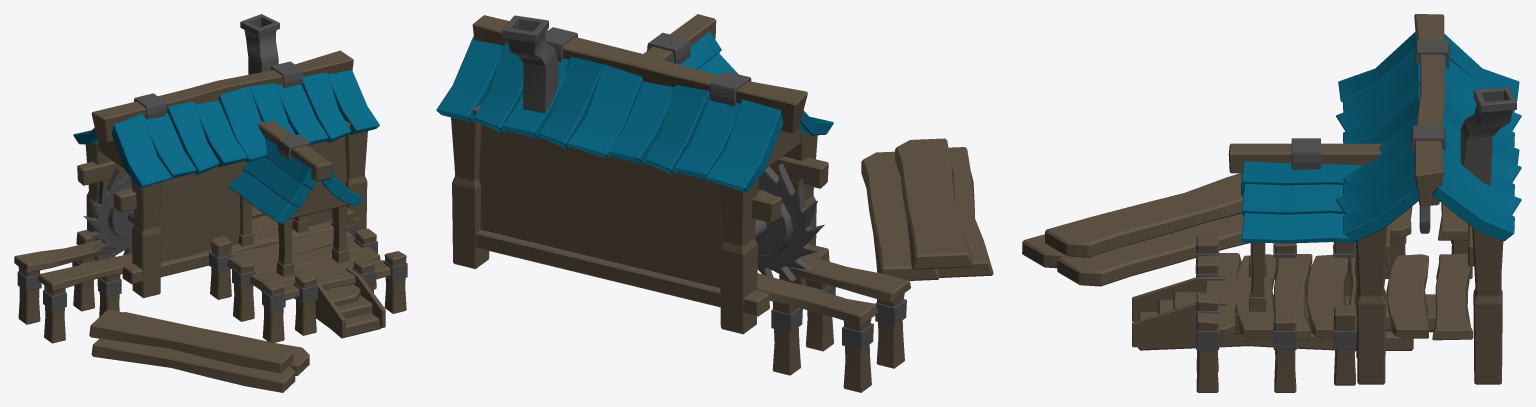
Rendered from SM_sawmill_v1.fbx.
The picture shows the model from 3 angles, left to right: view 1: azimuth 30°, elevation 25°; view 2: azimuth 150°, elevation 25°; view 3: azimuth 270°, elevation 25°; orthographic projection. The views are drawn at different scales.
Parts seen in each view (by area): view 1: sawmill_wood, sawmill_roof, sawmill_metal; view 2: sawmill_wood, sawmill_roof, sawmill_metal; view 3: sawmill_wood, sawmill_roof, sawmill_metal.
Boxes of the visible parts, x1,y1,x2,y2 form: sawmill_wood: (14, 50, 407, 392); sawmill_roof: (73, 70, 379, 224); sawmill_metal: (83, 14, 311, 258); sawmill_wood: (451, 14, 993, 392); sawmill_roof: (436, 31, 833, 192); sawmill_metal: (502, 15, 824, 281); sawmill_wood: (1022, 14, 1503, 392); sawmill_roof: (1241, 32, 1521, 243); sawmill_metal: (1291, 40, 1516, 233).
Bounding box in the file's own units: 8.05 × 5.39 × 8.15.
